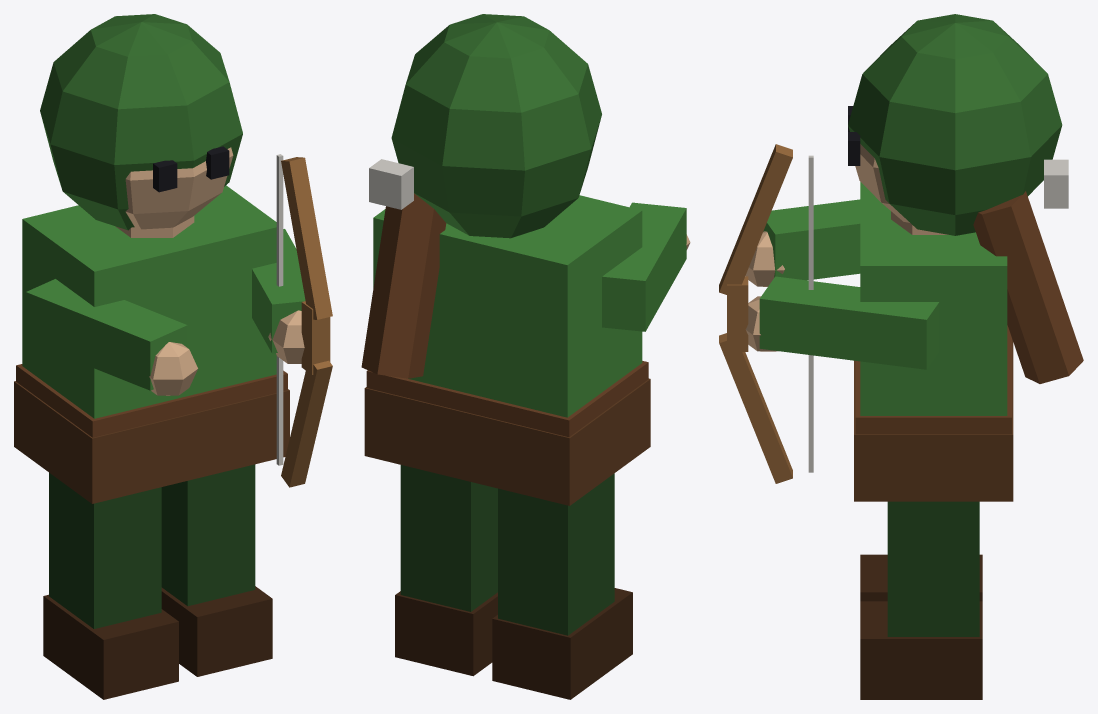
The model's file is u_archer.fbx.
The picture shows the model from 3 angles, left to right: view 1: azimuth 30°, elevation 25°; view 2: azimuth 150°, elevation 25°; view 3: azimuth 270°, elevation 25°; orthographic projection. The views are drawn at different scales.
Visible parts, largest first — view 1: u_archer_Body, u_archer_LegR, u_archer_LegL; view 2: u_archer_Body, u_archer_LegR, u_archer_LegL; view 3: u_archer_Body, u_archer_LegL, u_archer_LegR.
Part boxes in pixels (bbox=[...]): u_archer_Body: bbox=[14, 14, 332, 503]; u_archer_LegR: bbox=[43, 472, 178, 699]; u_archer_LegL: bbox=[161, 464, 272, 676]; u_archer_Body: bbox=[361, 14, 690, 505]; u_archer_LegR: bbox=[492, 473, 632, 699]; u_archer_LegL: bbox=[395, 465, 497, 676]; u_archer_Body: bbox=[719, 14, 1083, 501]; u_archer_LegL: bbox=[860, 501, 982, 699]; u_archer_LegR: bbox=[860, 554, 982, 601].
Bounding box in the file's own units: 0.4977 × 1.14 × 0.5954.
